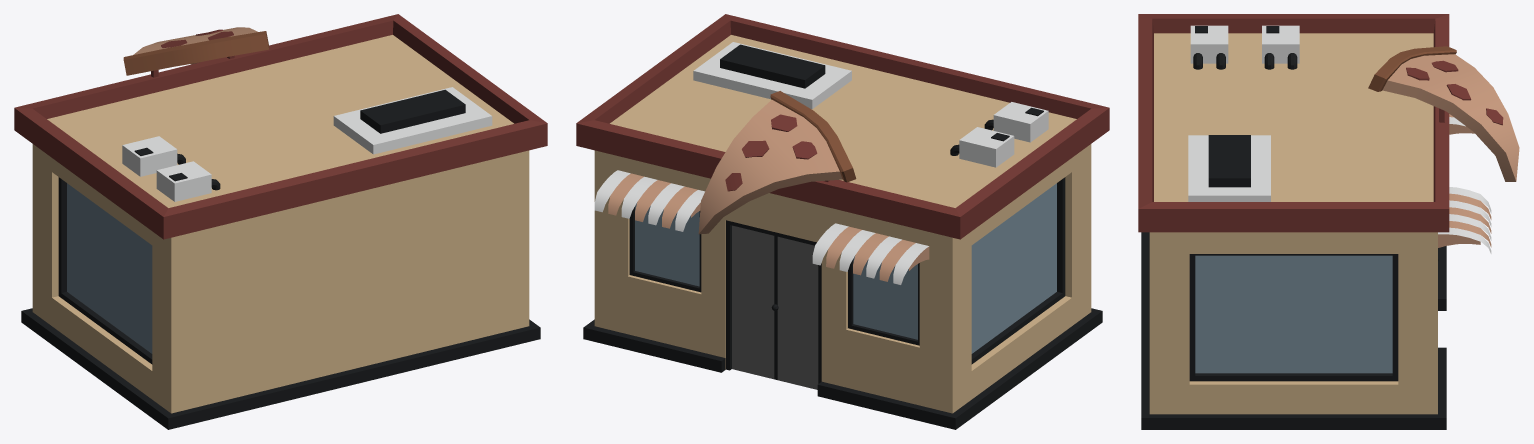
The model's file is pizza.fbx.
The picture shows the model from 3 angles, left to right: view 1: azimuth 30°, elevation 25°; view 2: azimuth 150°, elevation 25°; view 3: azimuth 270°, elevation 25°; orthographic projection. The views are drawn at different scales.
Visible parts, largest first — view 1: Pizza; view 2: Pizza; view 3: Pizza.
Part boxes in pixels (bbox=[...]): Pizza: bbox=[14, 14, 547, 429]; Pizza: bbox=[576, 14, 1109, 429]; Pizza: bbox=[1138, 14, 1519, 429].
Size of the model in its own units: 1179 by 770 by 973.
